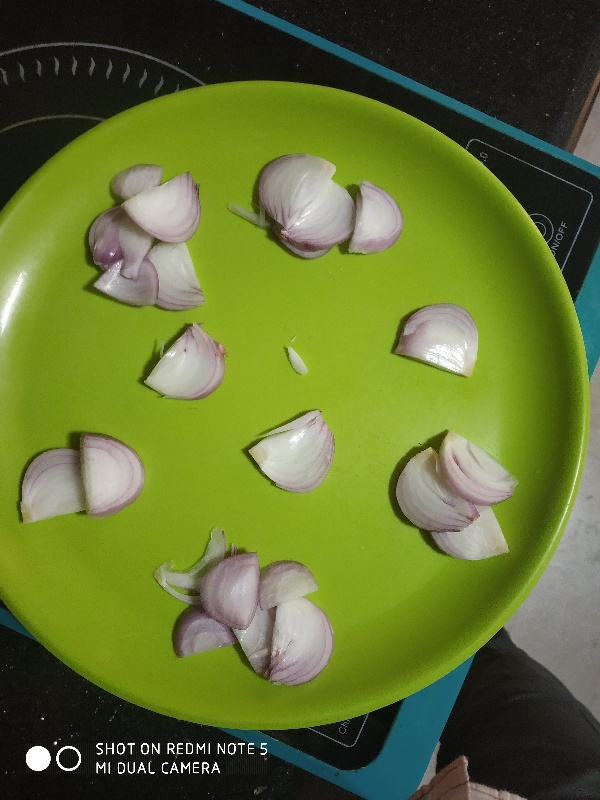onion_fresh: (148, 528, 340, 683), (84, 159, 216, 312), (254, 145, 396, 272), (389, 424, 510, 567), (5, 425, 145, 530), (140, 319, 232, 405), (387, 298, 484, 377), (245, 406, 334, 492)
